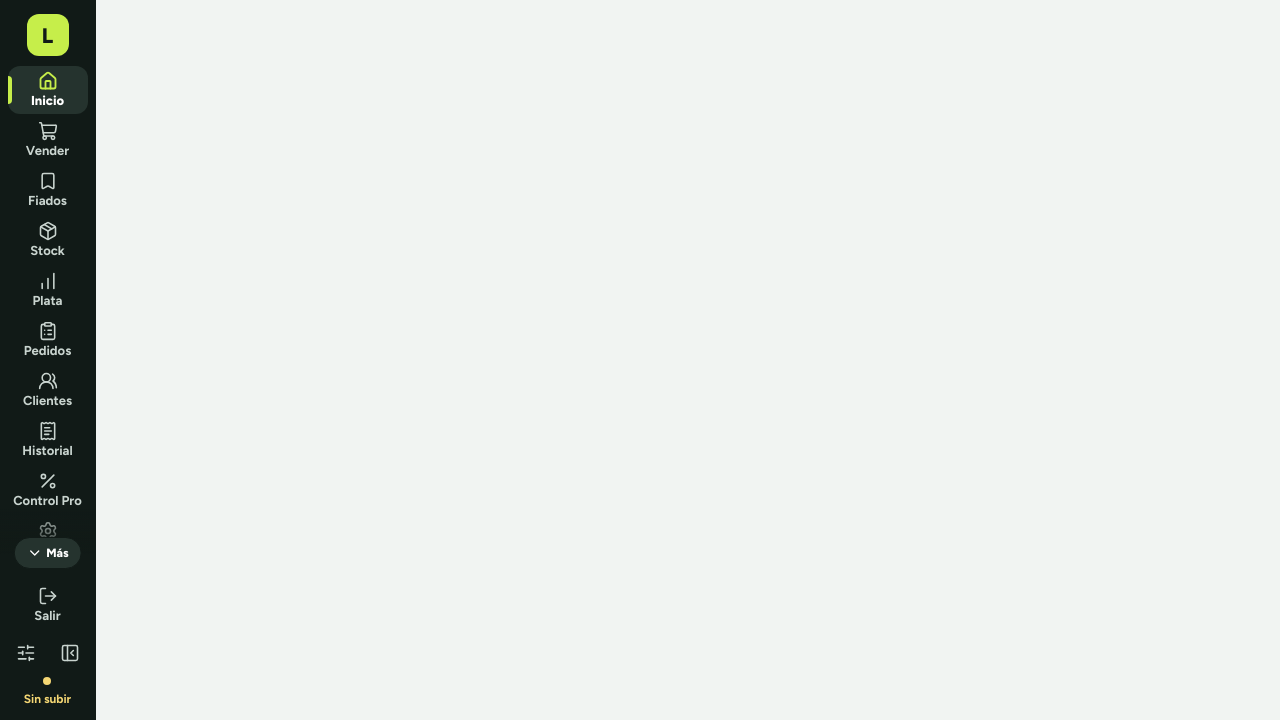
Cerrar sesión desde el menú › si hay ventas sin subir avisa que se pierden
Click the button with aria-label "Cerrar sesión". click: (48, 605)
box: [8, 581, 88, 629]
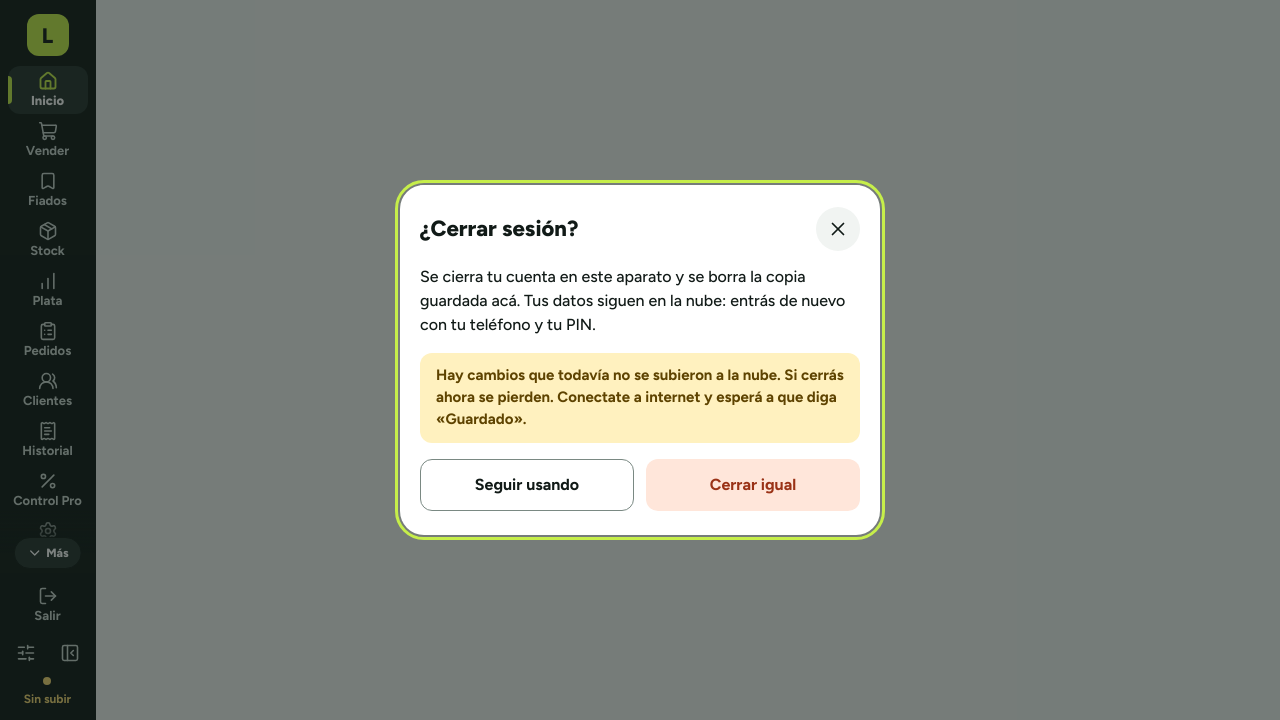
Expected: the text "todavía no se subieron" is shown, [436, 366, 844, 428]
Expected: the button "Cerrar igual" is shown, [646, 459, 860, 511]
